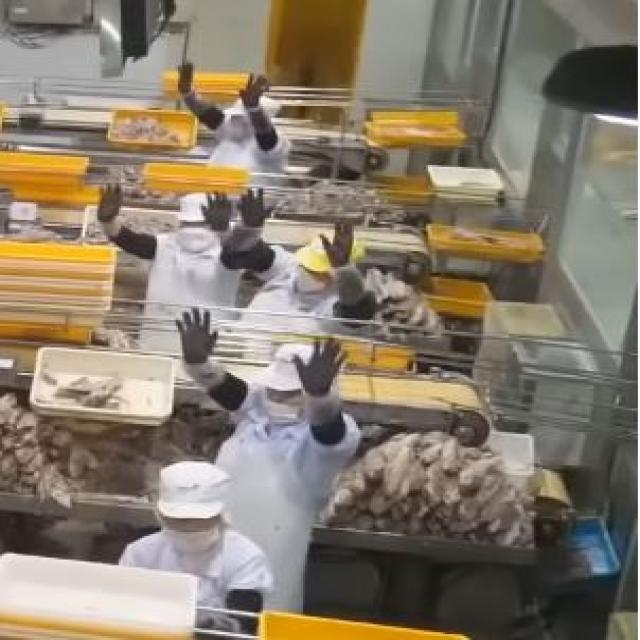gloved_hand: (282, 328, 350, 397), (169, 301, 224, 368), (315, 218, 366, 272), (84, 180, 131, 225), (234, 189, 284, 228), (194, 188, 236, 230), (231, 71, 272, 109), (175, 58, 206, 88)
